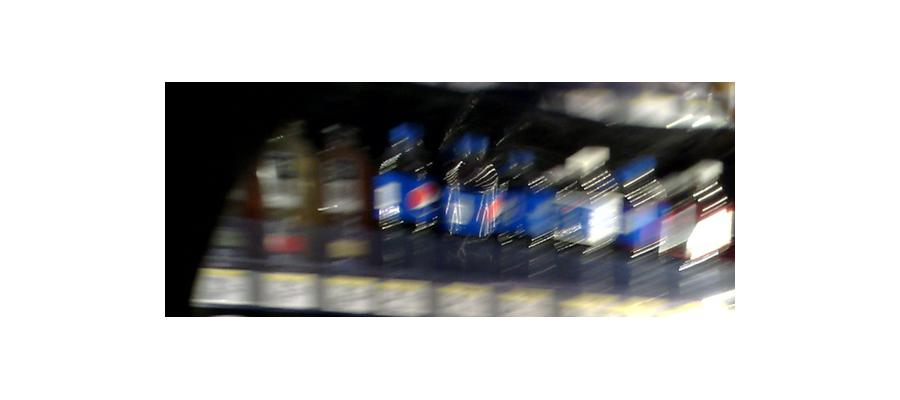bottle: (250, 103, 318, 290), (442, 103, 498, 262), (375, 126, 433, 274), (558, 152, 615, 296), (319, 131, 365, 293)
